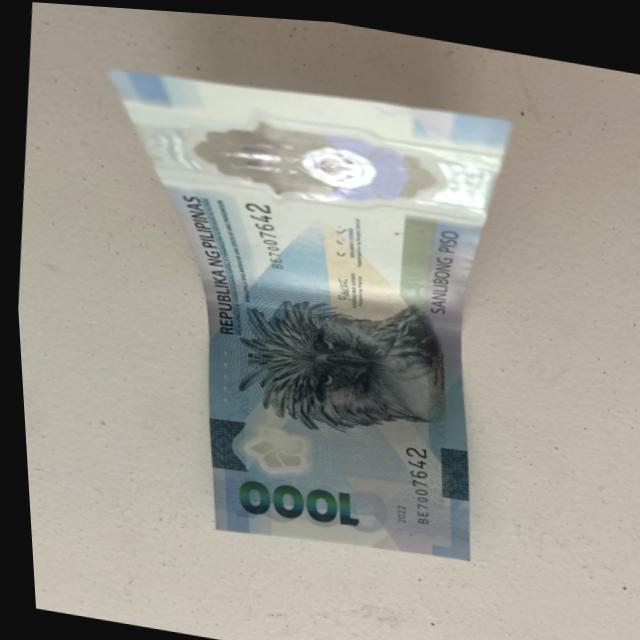clear_window: (111, 90, 516, 238)
eagle: (217, 278, 455, 452)
sampaguita: (228, 406, 333, 486)
security_thread: (199, 264, 462, 335)
serial_number: (220, 186, 294, 273), (382, 438, 434, 527)
value: (226, 464, 357, 531)
